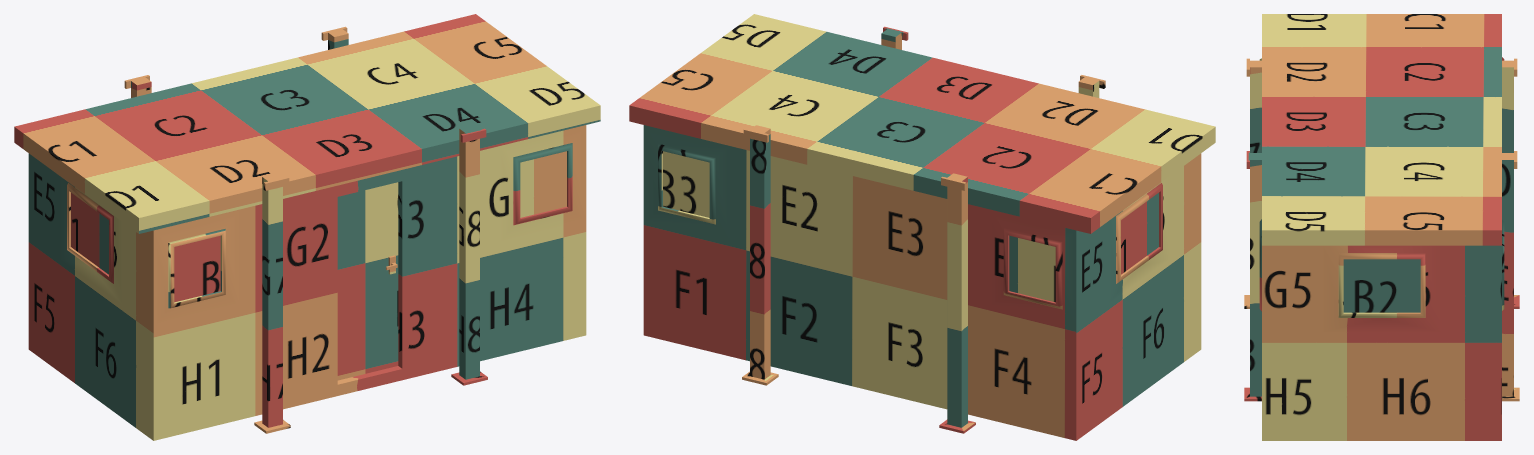
The model's file is portable office reworked.fbx.
The picture shows the model from 3 angles, left to right: view 1: azimuth 30°, elevation 25°; view 2: azimuth 150°, elevation 25°; view 3: azimuth 270°, elevation 25°; orthographic projection. The views are drawn at different scales.
Visible parts, largest first — view 1: support_bar1; view 2: support_bar1; view 3: support_bar1.
Part boxes in pixels (x1=…): support_bar1: x1=14, y1=14, x2=600, y2=440; support_bar1: x1=629, y1=14, x2=1215, y2=440; support_bar1: x1=1244, y1=14, x2=1519, y2=440.
Size of the model in its own units: 6.4 by 3.3 by 3.44.
1 material, 1 textured.
